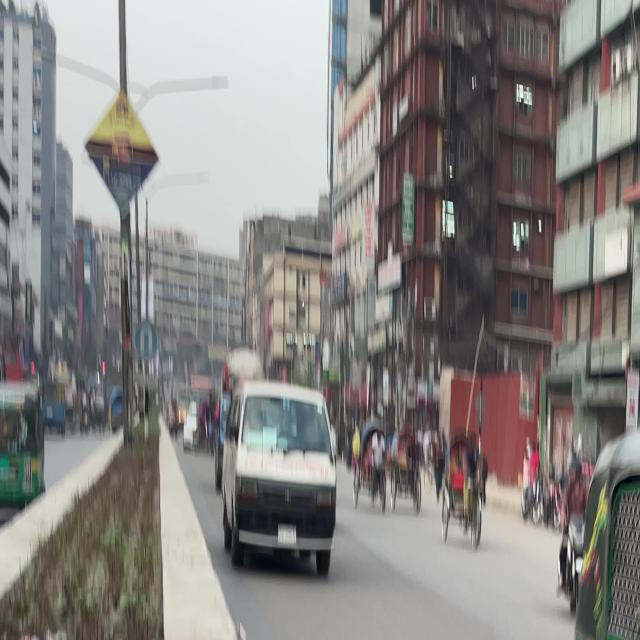car: (206, 352, 351, 579)
rickshaw: (529, 383, 640, 640)
